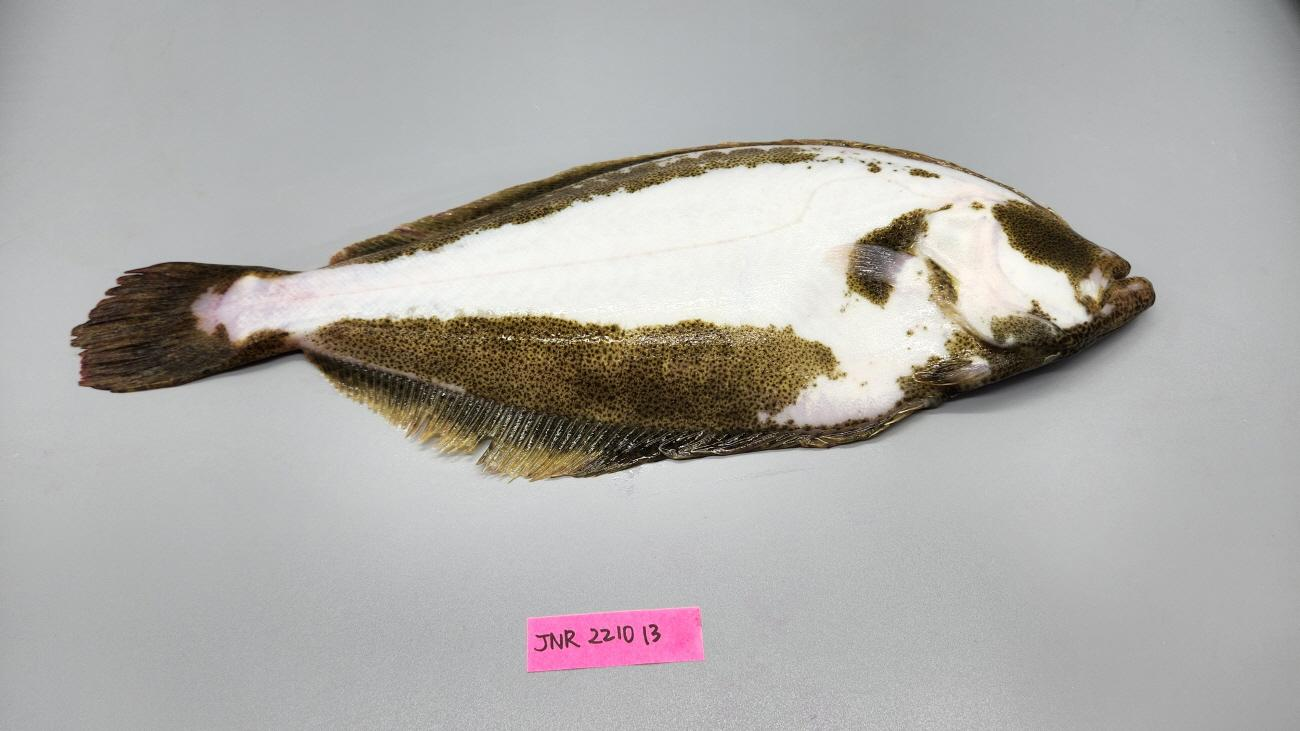POOUN: (69, 139, 1156, 484)
